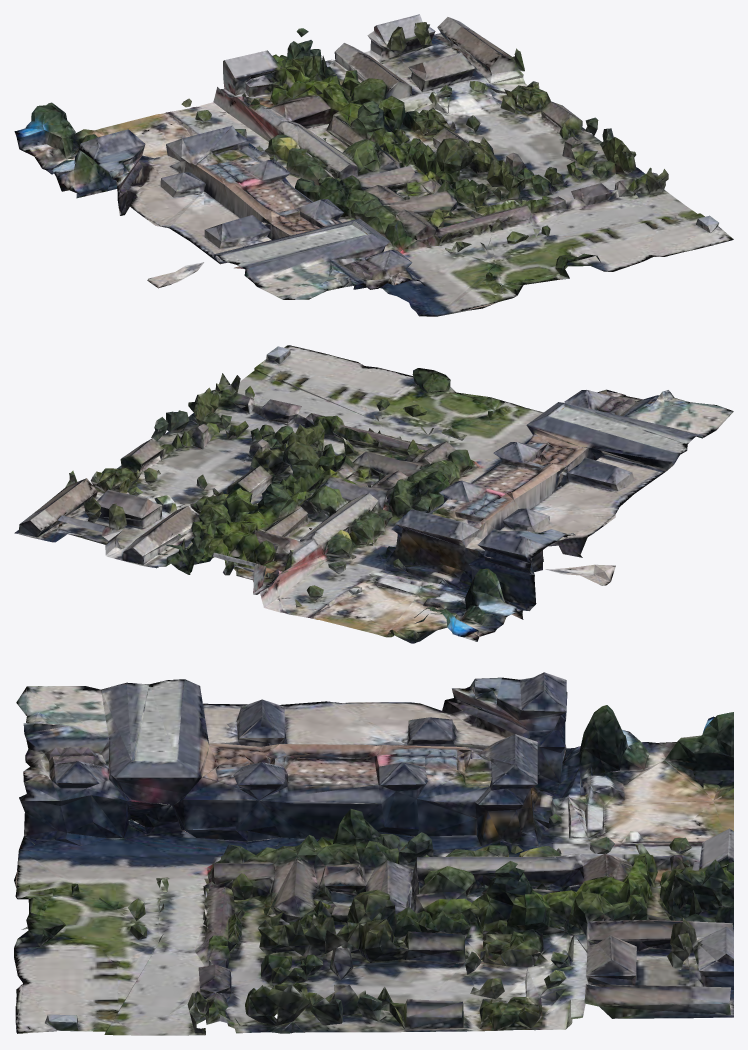
3 views of the same model, one above another, from view 1: azimuth 30°, elevation 25°; view 2: azimuth 150°, elevation 25°; view 3: azimuth 270°, elevation 25° (orthographic). The views are drawn at different scales.
Size of the model in its own units: 201 by 41.56 by 209.
1 material, 1 textured.
